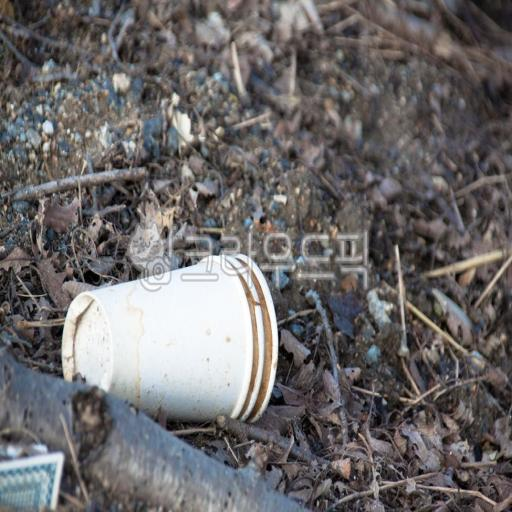paper: (61, 254, 278, 421)
